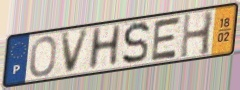E: (149, 15, 183, 63)
H: (178, 9, 216, 60), (86, 23, 124, 73)
O: (28, 34, 58, 78)
S: (121, 20, 152, 67)
V: (60, 27, 92, 76)
